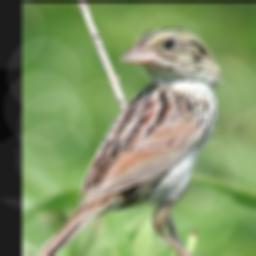Sparrow: (29, 27, 224, 256)
